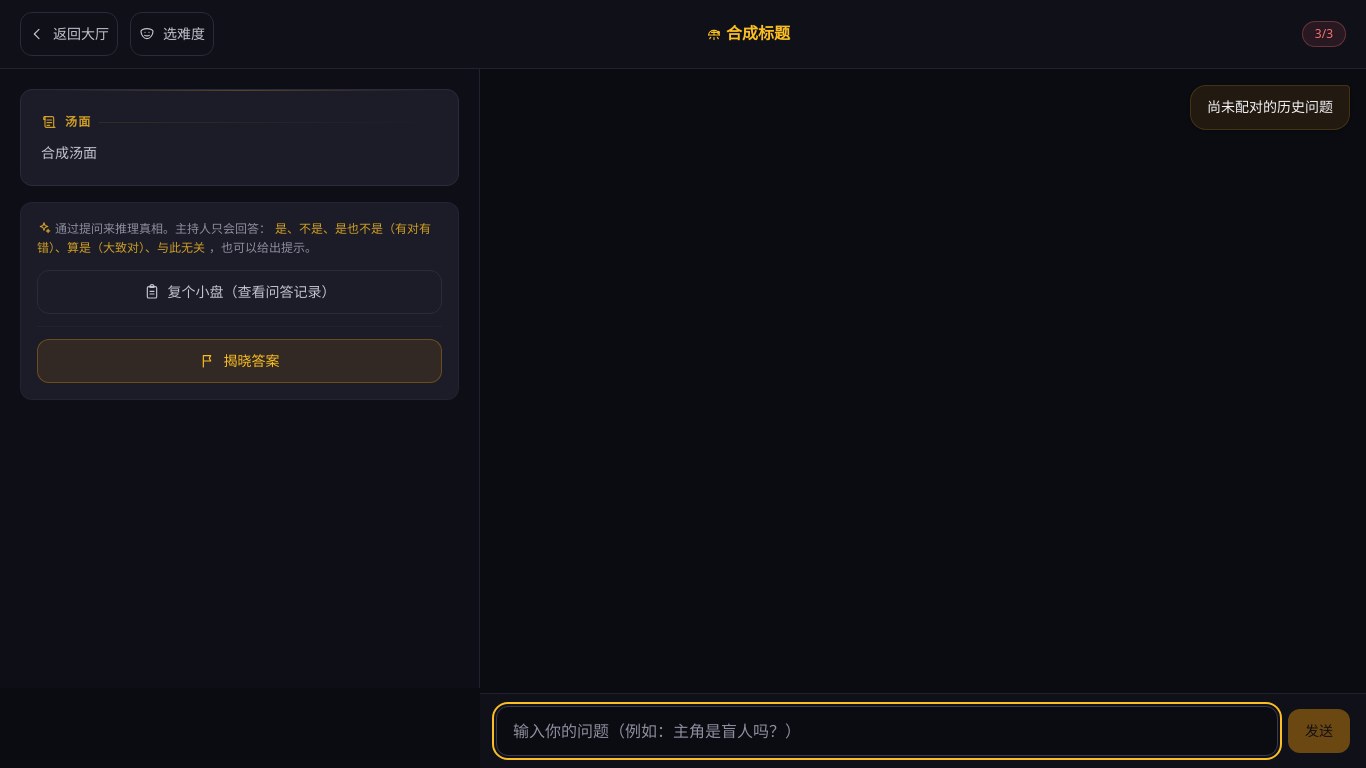
Test: an unpaired historical question shows waiting rather than guessing the missing reply
Expected: the text "合成汤面" is shown, [41,143,97,162]
Click the button "复个小盘（查看问答记录）" at (240, 292), box [37,270,442,314]
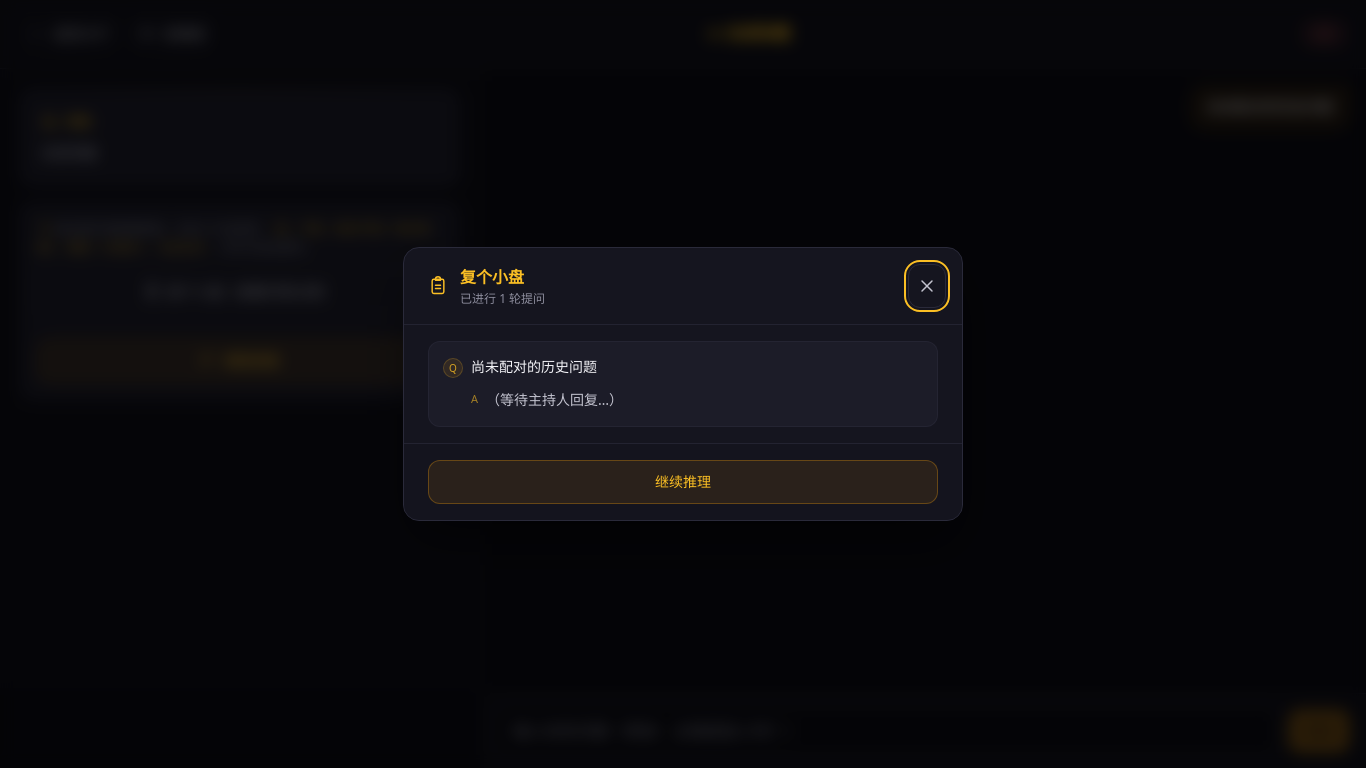
Now the text "（等待主持人回复…）" is shown, box [486,390,623,409]
